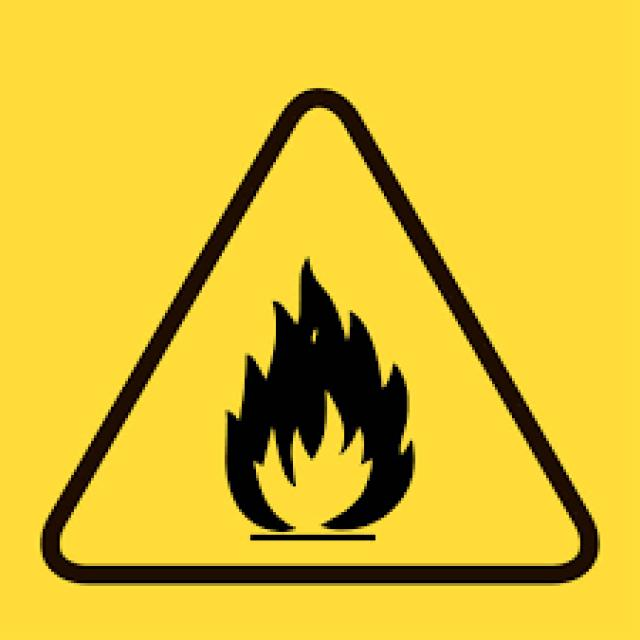Fire-risk: (27, 89, 614, 611)
